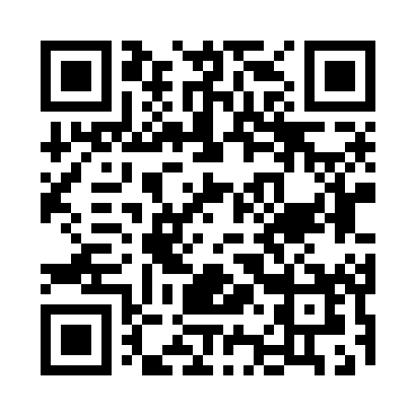qr: (37, 35, 382, 381)
